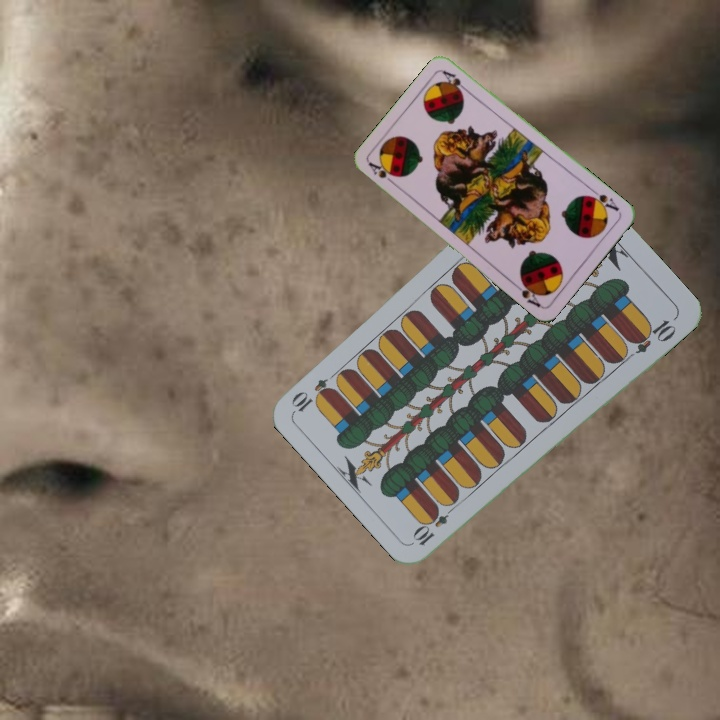E10: (410, 500, 459, 549)
SA: (364, 158, 399, 189), (584, 185, 621, 214)
